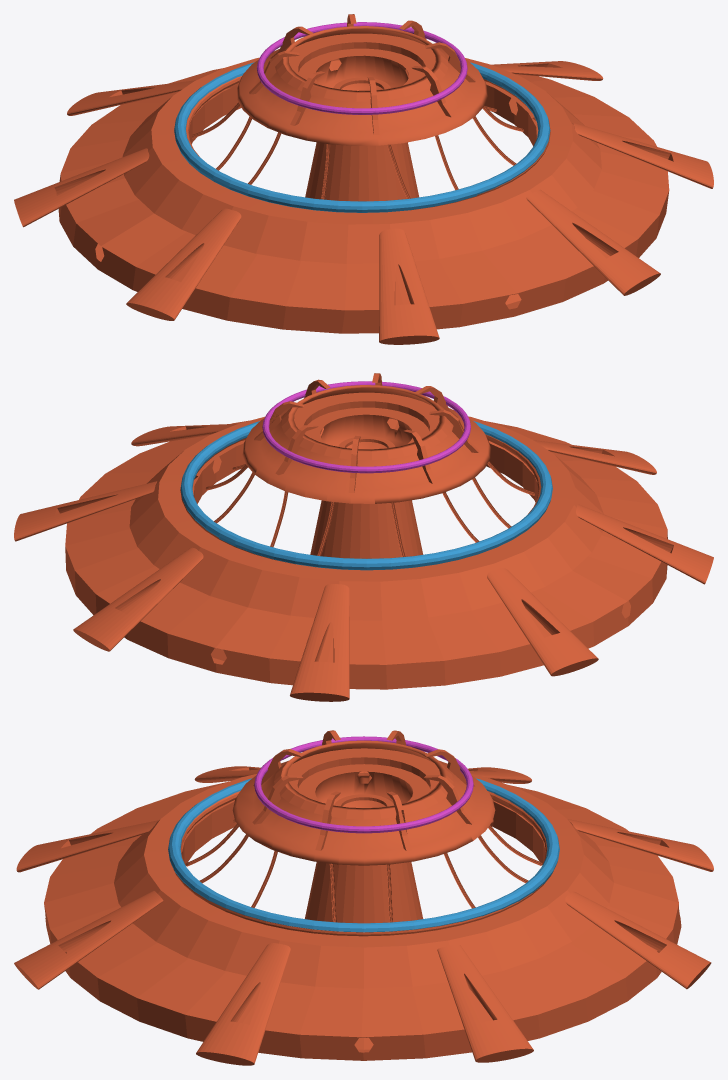
File: StafiumWithRings.fbx
3 renders of one model, top to bottom at view 1: azimuth 30°, elevation 25°; view 2: azimuth 150°, elevation 25°; view 3: azimuth 270°, elevation 25°, orthographic. The views are drawn at different scales.
Visible parts, largest first — view 1: TheMesh, Torus.001, Torus.000; view 2: TheMesh, Torus.001, Torus.000; view 3: TheMesh, Torus.001, Torus.000.
Boxes of the visible parts, x1,y1,x2,y2 form: TheMesh: [14, 14, 713, 344]; Torus.001: [174, 62, 550, 212]; Torus.000: [257, 22, 467, 114]; TheMesh: [14, 373, 713, 701]; Torus.001: [180, 421, 552, 570]; Torus.000: [262, 381, 470, 473]; TheMesh: [14, 730, 713, 1065]; Torus.001: [168, 778, 559, 932]; Torus.000: [254, 736, 473, 833].
Size of the model in its own units: 1747 by 462 by 1741.
